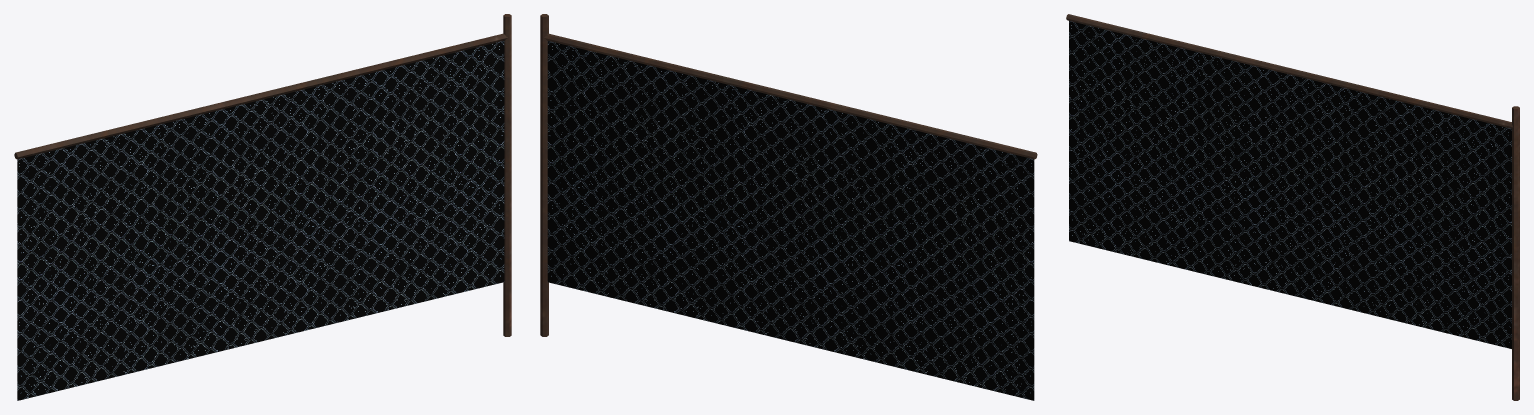
File: Urban_MetalfenceOneSideTopbar_Model.fbx
The picture shows the model from 3 angles, left to right: view 1: azimuth 30°, elevation 25°; view 2: azimuth 150°, elevation 25°; view 3: azimuth 330°, elevation 25°; orthographic projection. The views are drawn at different scales.
Visible parts, largest first — view 1: Urban_MetalfenceOneSideTopbar_Mesh; view 2: Urban_MetalfenceOneSideTopbar_Mesh; view 3: Urban_MetalfenceOneSideTopbar_Mesh.
Part boxes in pixels (left/top/right/bottom): Urban_MetalfenceOneSideTopbar_Mesh: left=14, top=14, right=511, bottom=400; Urban_MetalfenceOneSideTopbar_Mesh: left=540, top=14, right=1037, bottom=400; Urban_MetalfenceOneSideTopbar_Mesh: left=1066, top=14, right=1519, bottom=400.
Size of the model in its own units: 2.7 by 1.67 by 0.04.
